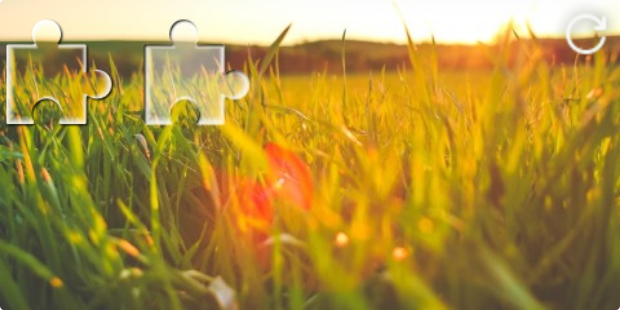target: (145, 20, 249, 126)
